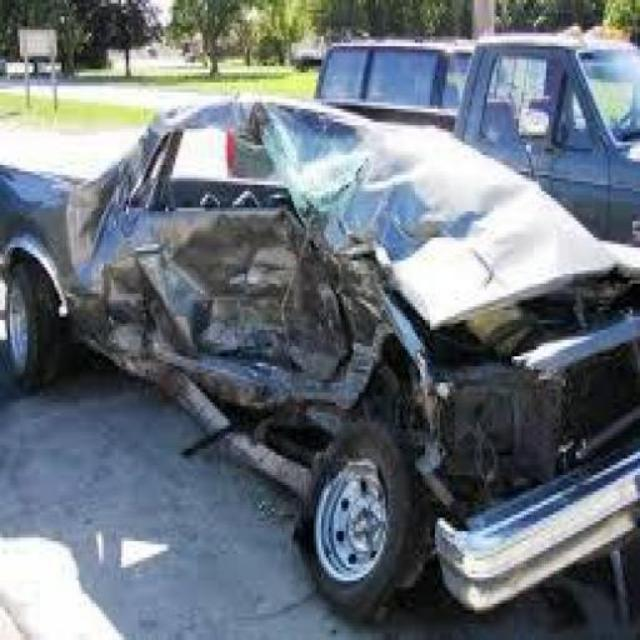crash: (1, 101, 640, 533)
